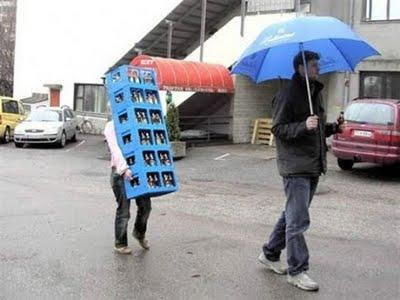person: (259, 50, 347, 291)
